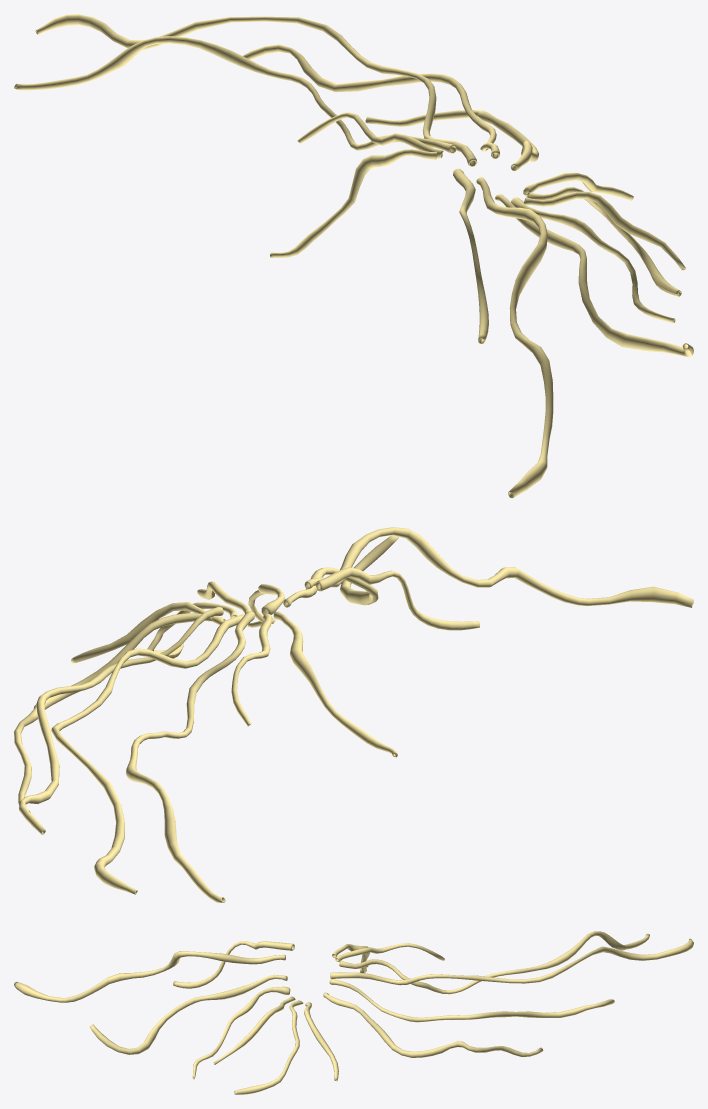
The model's file is Centrioles_microtubes.fbx.
3 renders of one model, top to bottom at view 1: azimuth 30°, elevation 25°; view 2: azimuth 150°, elevation 25°; view 3: azimuth 270°, elevation 25°, orthographic. The views are drawn at different scales.
Visible parts, largest first — view 1: Centrioles_microtubes; view 2: Centrioles_microtubes; view 3: Centrioles_microtubes.
Boxes of the visible parts, left/top/right/bottom form: Centrioles_microtubes: left=14, top=14, right=693, bottom=498; Centrioles_microtubes: left=14, top=527, right=693, bottom=902; Centrioles_microtubes: left=14, top=931, right=693, bottom=1094.
Size of the model in its own units: 1220 by 427 by 2818.
